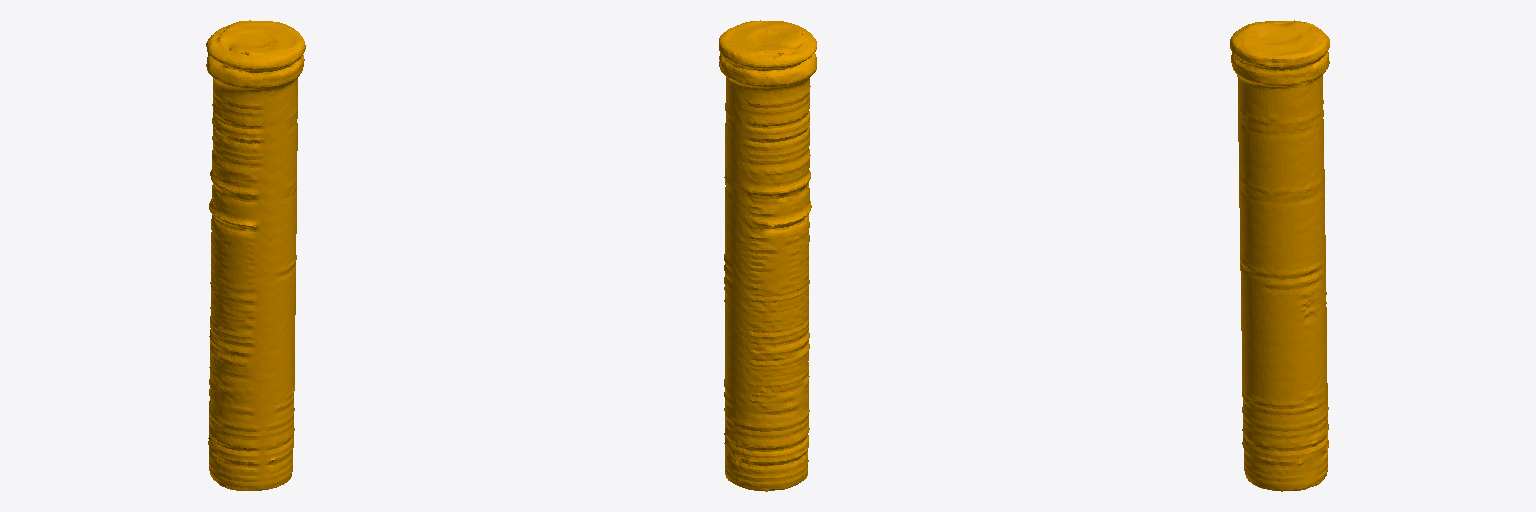
robot.urdf — object:
<?xml version="1.0" encoding="utf-8"?>
<robot name="object">
          <link name="object">
            <visual>
              <origin xyz="0.0 0.0 0.0" />
              <geometry>
                <mesh filename="package://scene_generation/object/kit/FizzyTablets/FizzyTablets.stl" scale="1.00 1.00 1.00" />
              </geometry>
            </visual>
            <collision>
              <origin xyz="0.0 0.0 0.0" />
              <geometry>
                <mesh filename="package://scene_generation/object/kit/FizzyTablets/FizzyTablets.stl" scale="1.00 1.00 1.00" />
              </geometry>
            </collision>
          </link>
        </robot>

--- Render facts (derived) ---
Views: 3 orthographic renders of the robot side by side, from view 1: azimuth 30°, elevation 25°; view 2: azimuth 150°, elevation 25°; view 3: azimuth 270°, elevation 25°.
Model object with 1 links and 0 joints (none), rooted at object, posed every joint at zero.
Links seen in each view (by area): view 1: object; view 2: object; view 3: object.
Boxes of the visible links, bbox=[...] form: object: bbox=[206, 20, 305, 490]; object: bbox=[719, 20, 816, 491]; object: bbox=[1230, 20, 1329, 491].
Size in the robot's own frame: 0.0341 by 0.034 by 0.1651 metres.
1 mesh visuals loaded from 1 distinct referenced files (1 binary STL).